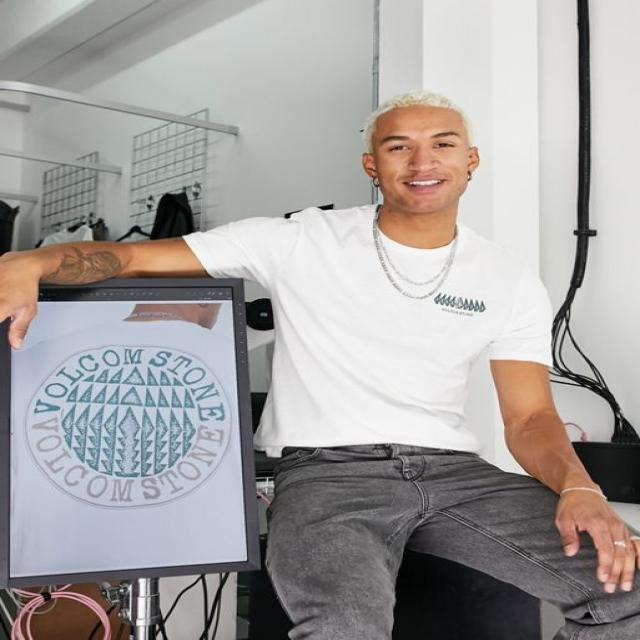tshirt: (180, 198, 558, 460)
